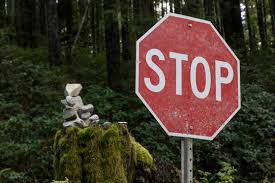stop sign: (135, 13, 242, 141)
